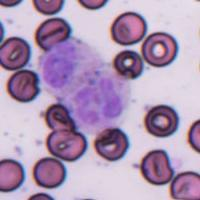N: (38, 39, 127, 120)
